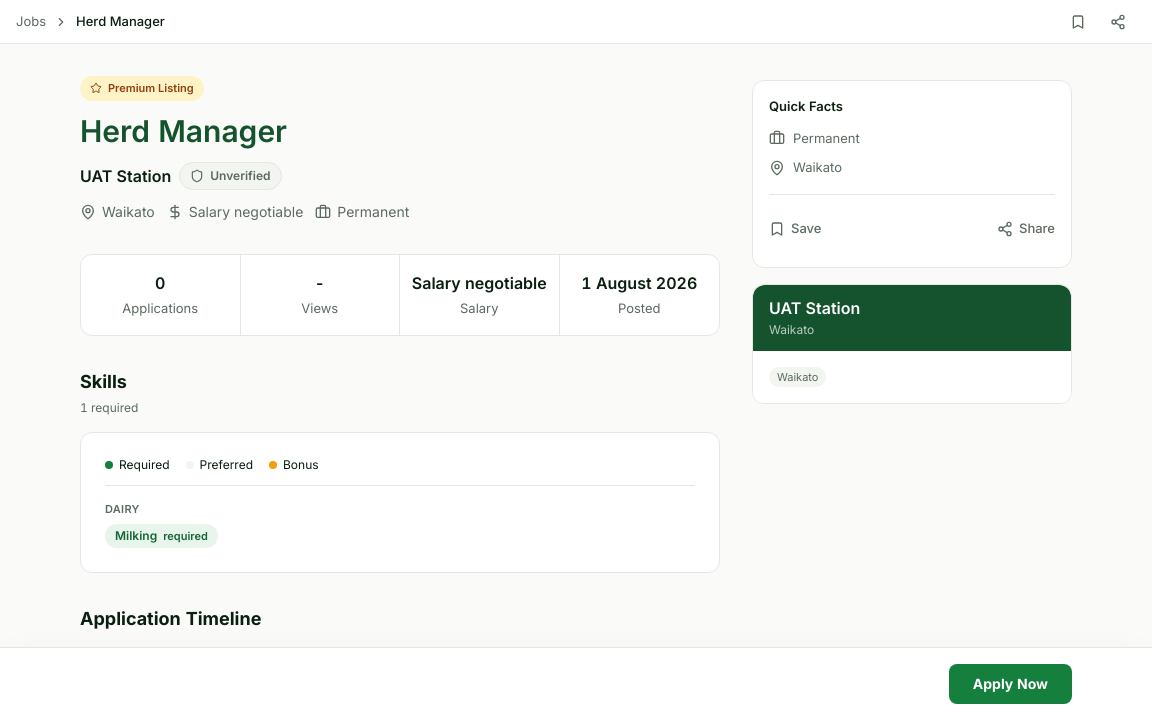
Test: apply form cover note has an accessible name › leaves no textarea in the apply dialog without an accessible name
The image size is (1152, 720).
Click the button "Apply Now" at [1010, 684], box [949,664,1072,704]
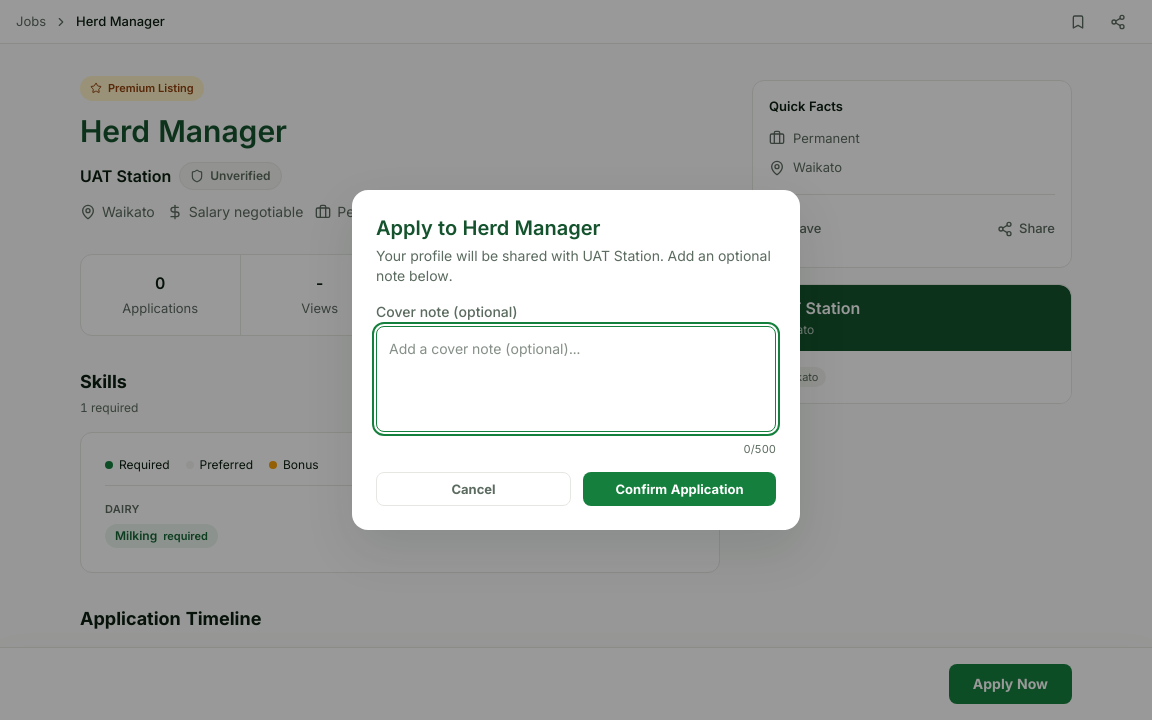
Expected: the text box labelled "Cover note (optional)" is shown, [376,326,776,432]
